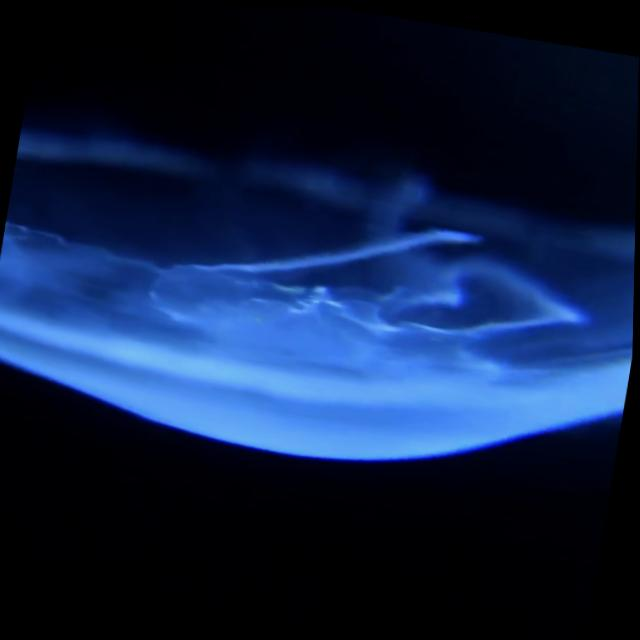Moon-jellyfish: (0, 174, 636, 458)
